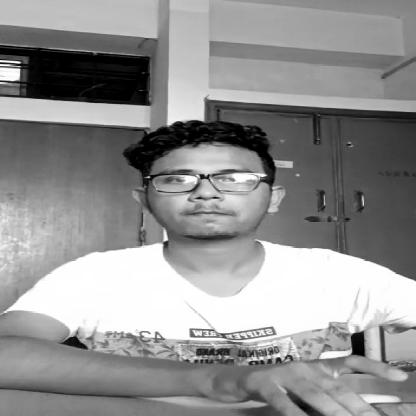Normal: (133, 137, 300, 249)
